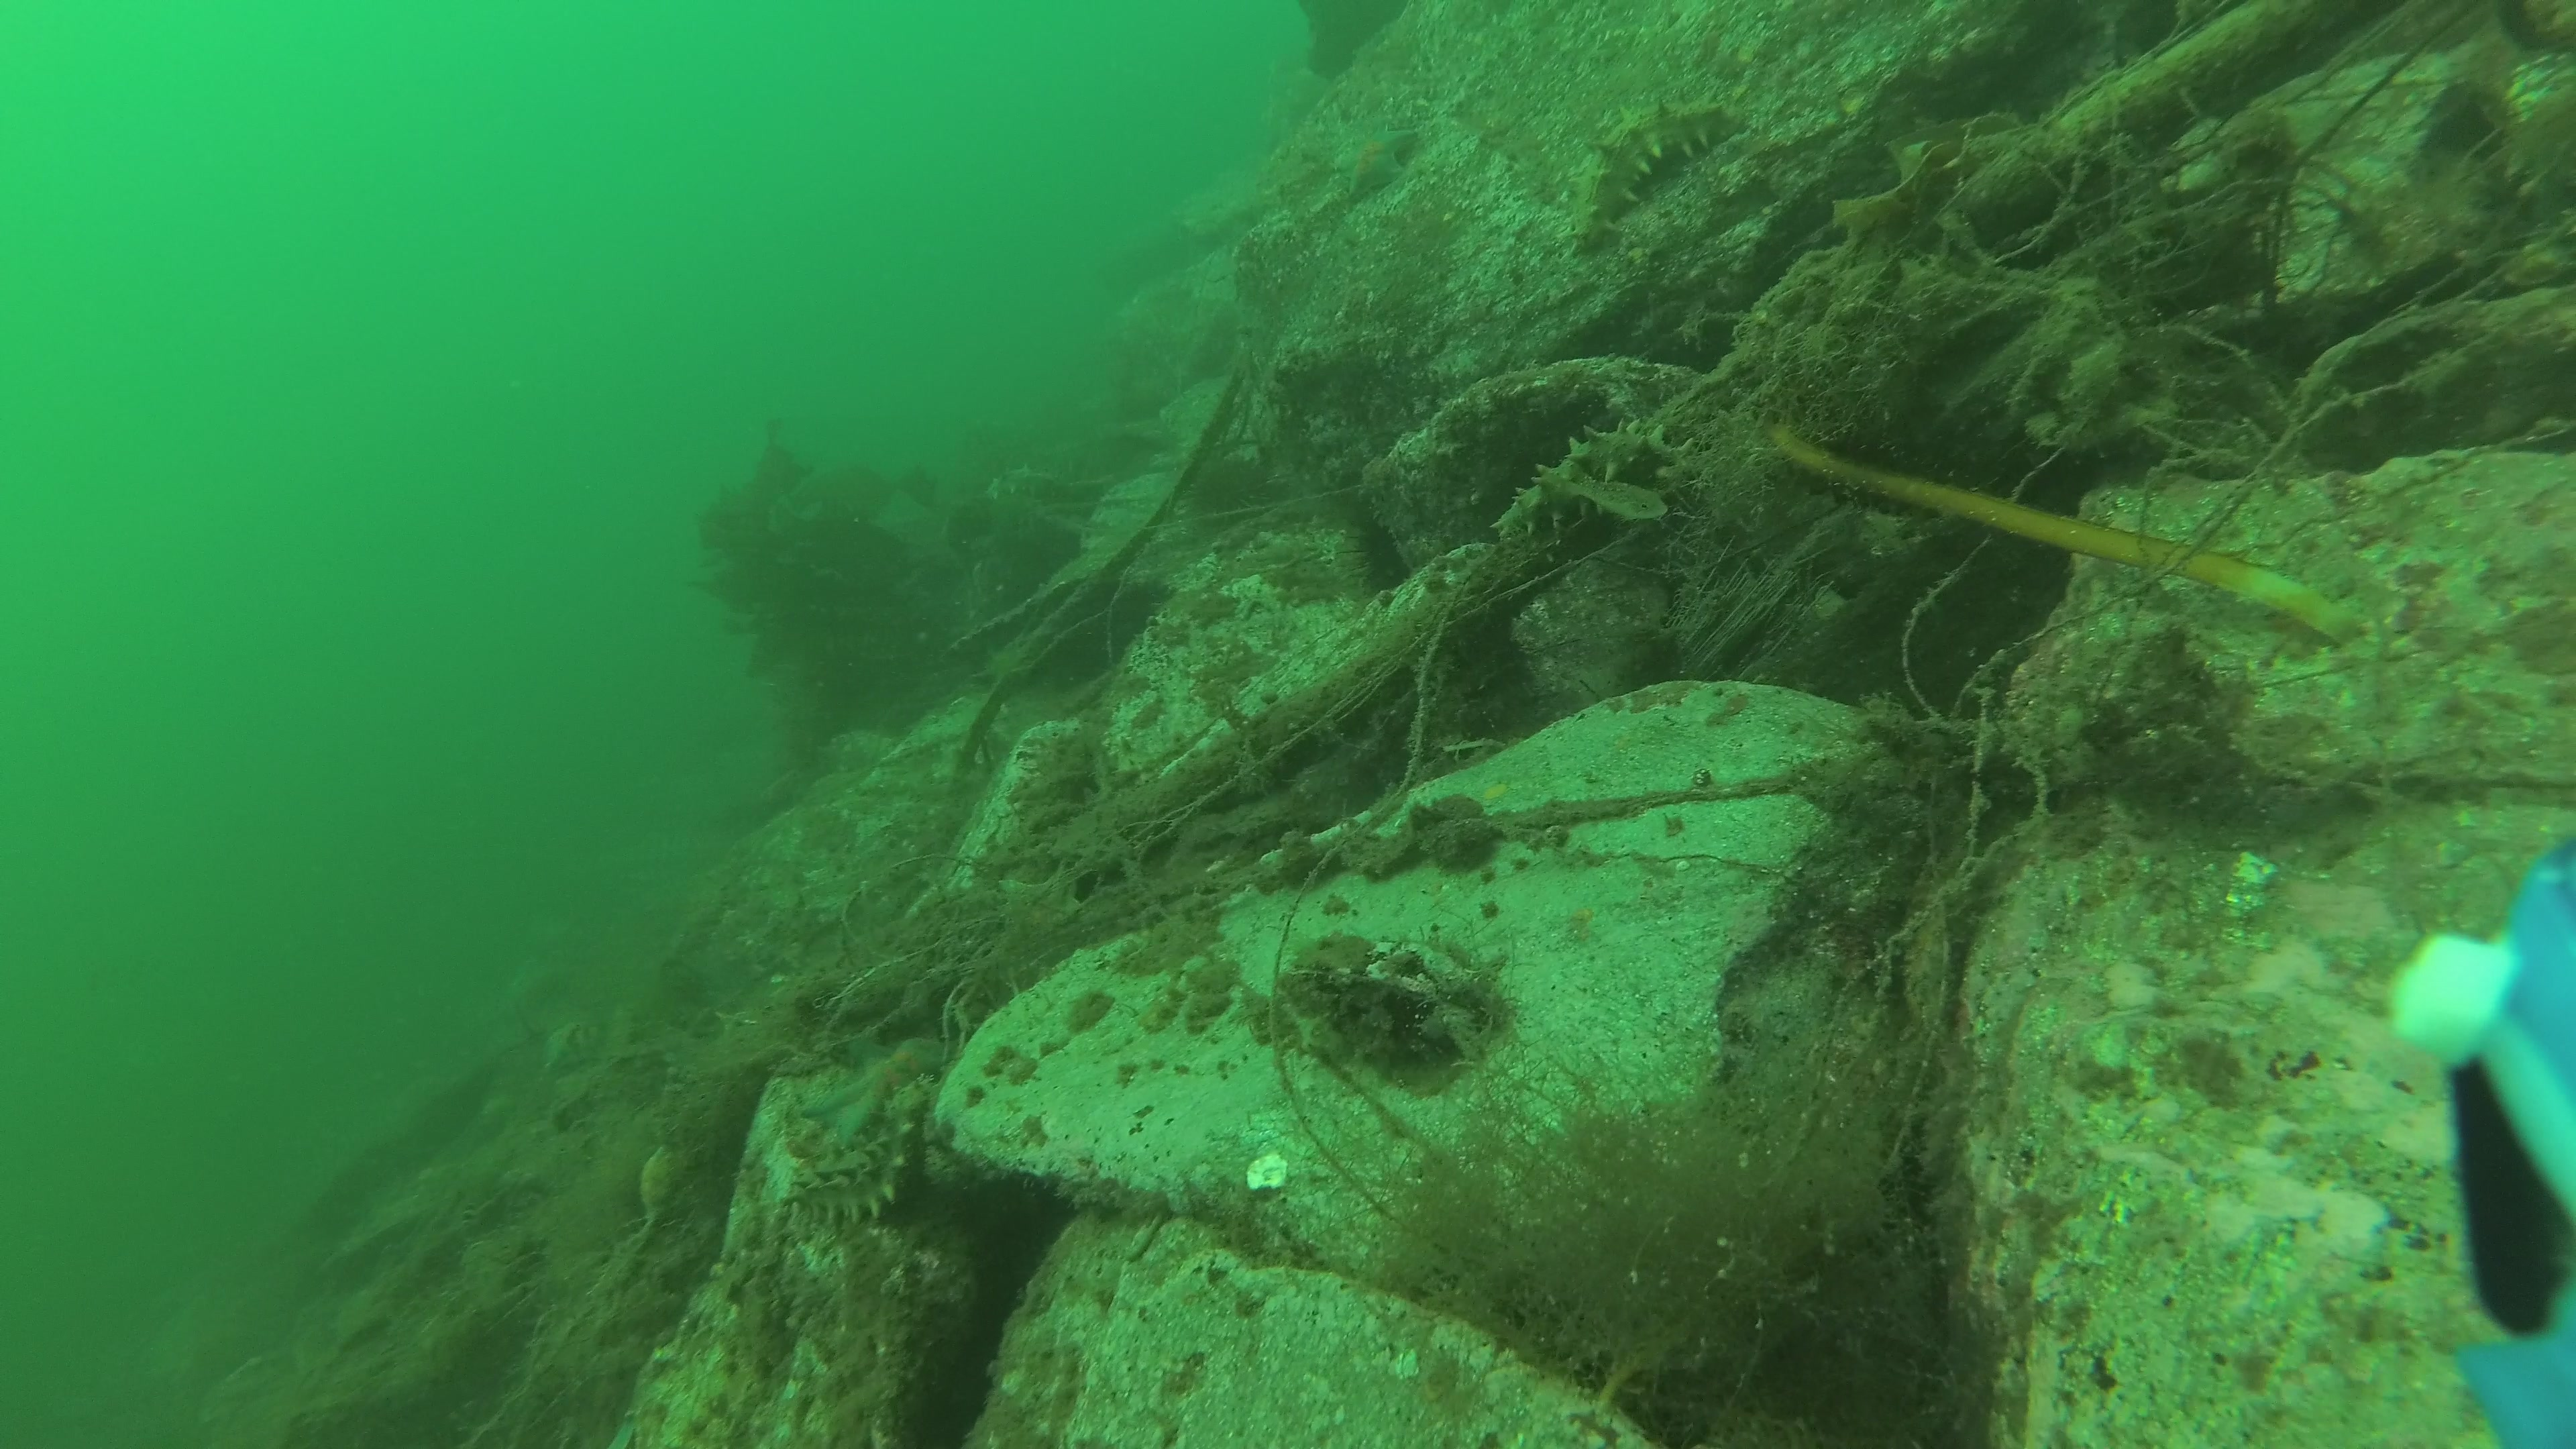holothurian: (1557, 92, 1743, 248), (1479, 412, 1677, 556), (782, 1074, 938, 1237)
starfish: (805, 1031, 957, 1152)
